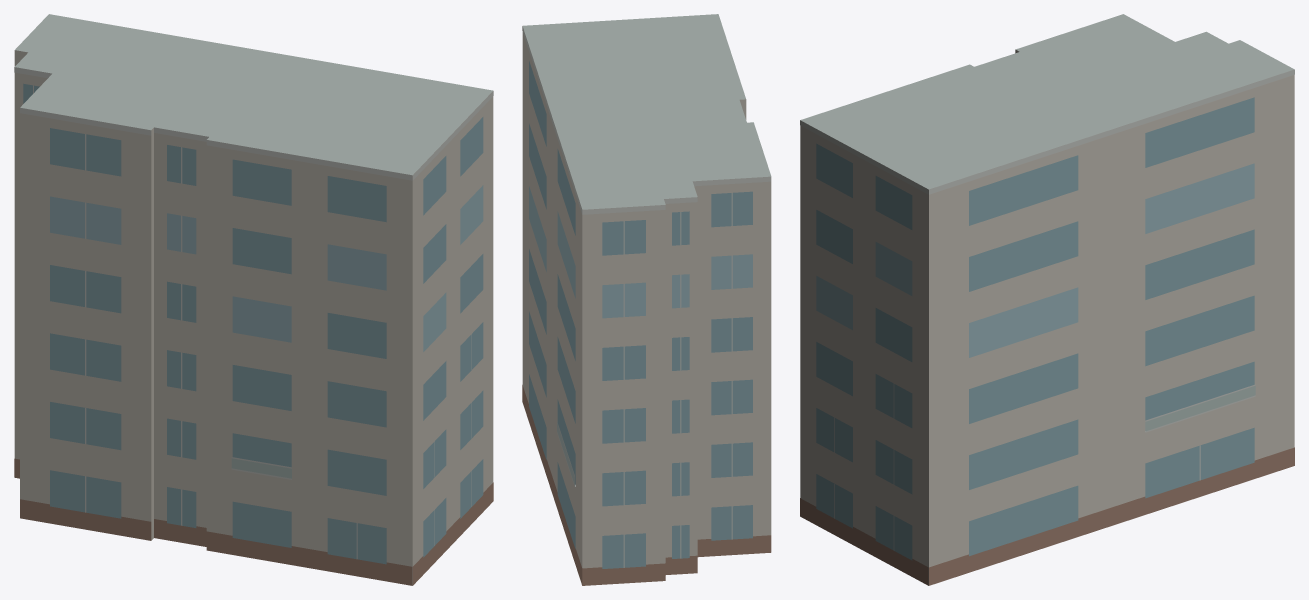
File: survey-upis-32931340.glb
3 renders of one model, left to right at view 1: azimuth 30°, elevation 25°; view 2: azimuth 150°, elevation 25°; view 3: azimuth 270°, elevation 25°, orthographic. The views are drawn at different scales.
Parts seen in each view (by area): view 1: survey-upis-32931340.tmp; view 2: survey-upis-32931340.tmp; view 3: survey-upis-32931340.tmp.
Part boxes in pixels (box(x1,y1,x2,y2)): survey-upis-32931340.tmp: box(14, 14, 493, 585); survey-upis-32931340.tmp: box(522, 14, 771, 585); survey-upis-32931340.tmp: box(800, 14, 1294, 585).
Size of the model in its own units: 17.39 by 18.3 by 20.7.
